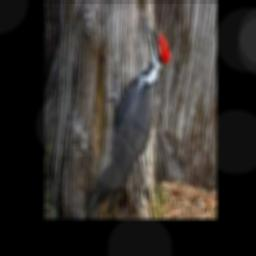Woodpecker: (87, 11, 171, 216)
